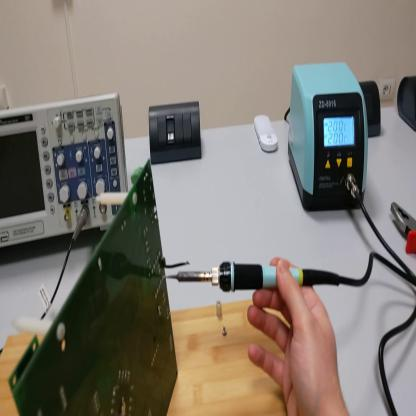hand: (248, 257, 342, 416)
low voltage board: (8, 162, 180, 416)
oscilloscope: (2, 92, 129, 251)
pliers: (392, 200, 415, 254)
socket: (359, 82, 383, 137), (399, 76, 416, 132)
welder probe tip: (164, 264, 341, 295)
welder station: (289, 61, 367, 210)
working area: (2, 280, 315, 413)
